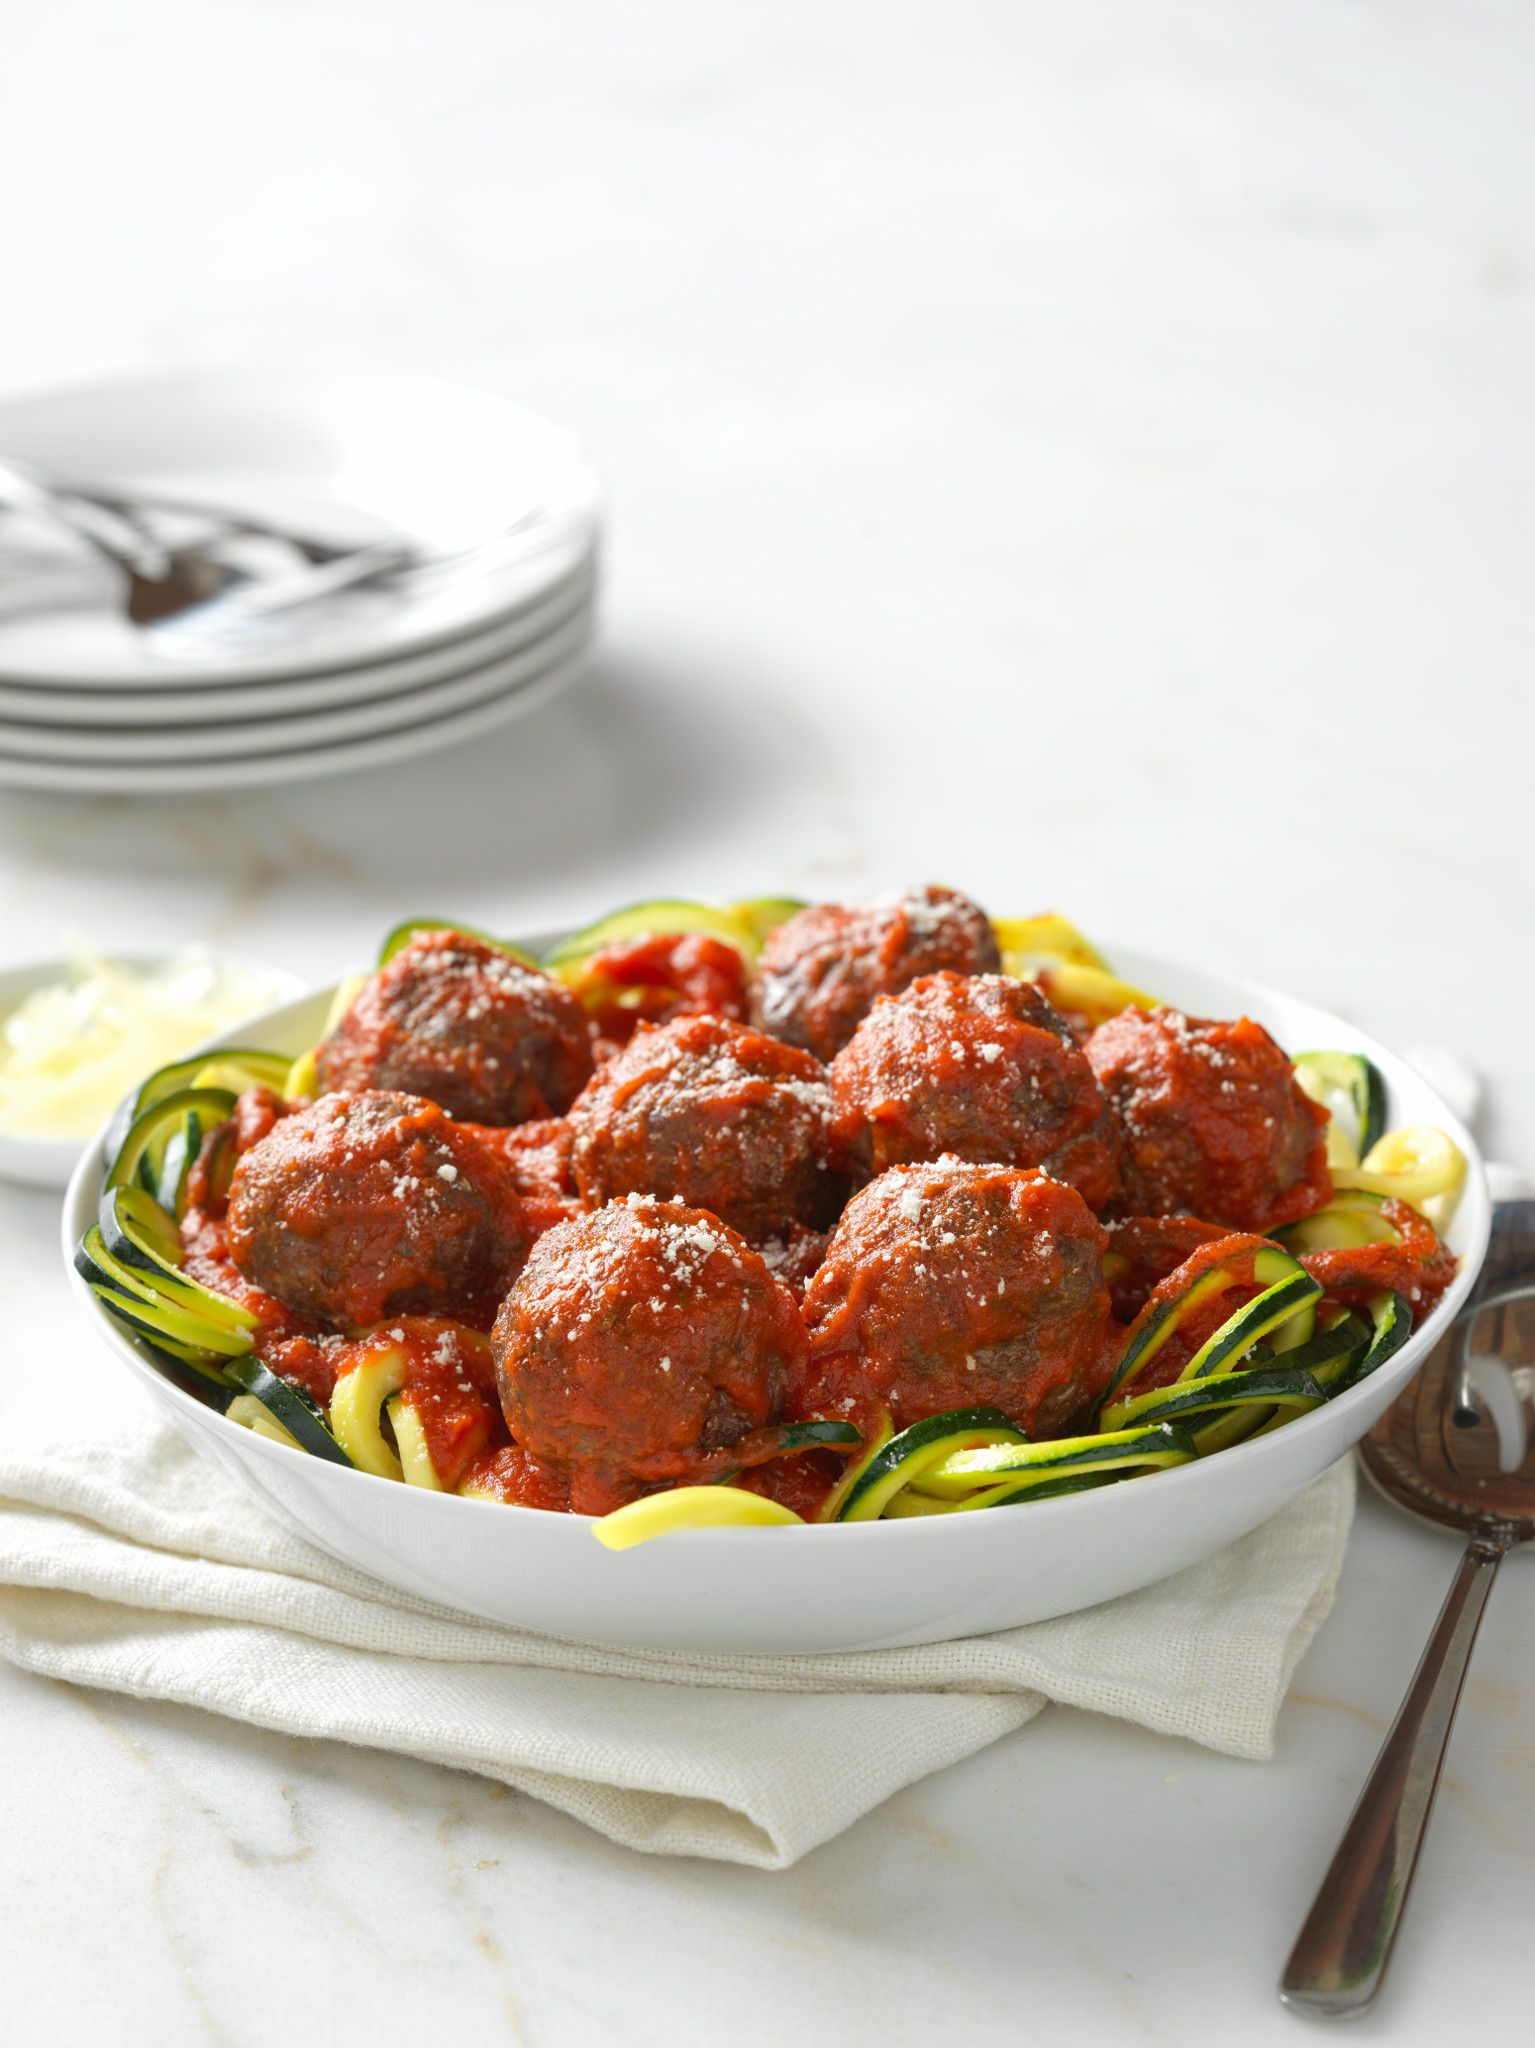meatballs: (797, 1156, 1101, 1408), (493, 1200, 785, 1458), (213, 1097, 500, 1306), (1093, 1005, 1316, 1235), (835, 1013, 1092, 1195), (313, 947, 584, 1113), (582, 1039, 845, 1205), (769, 895, 995, 1001)
